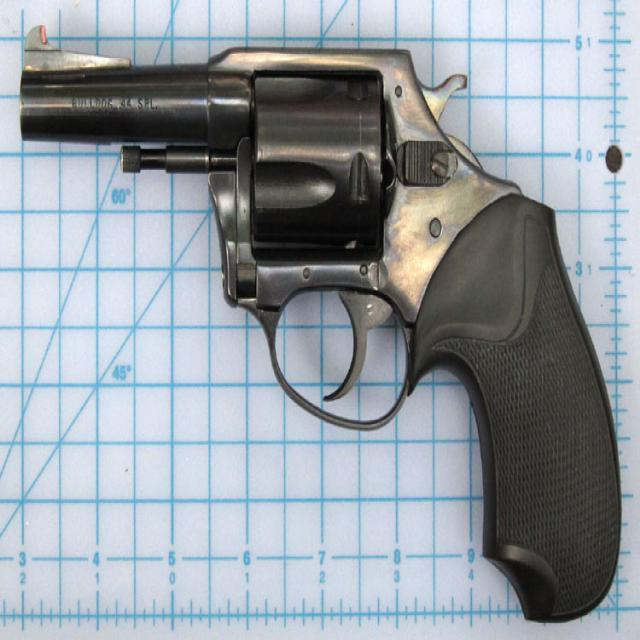Gun: (19, 24, 638, 625)
